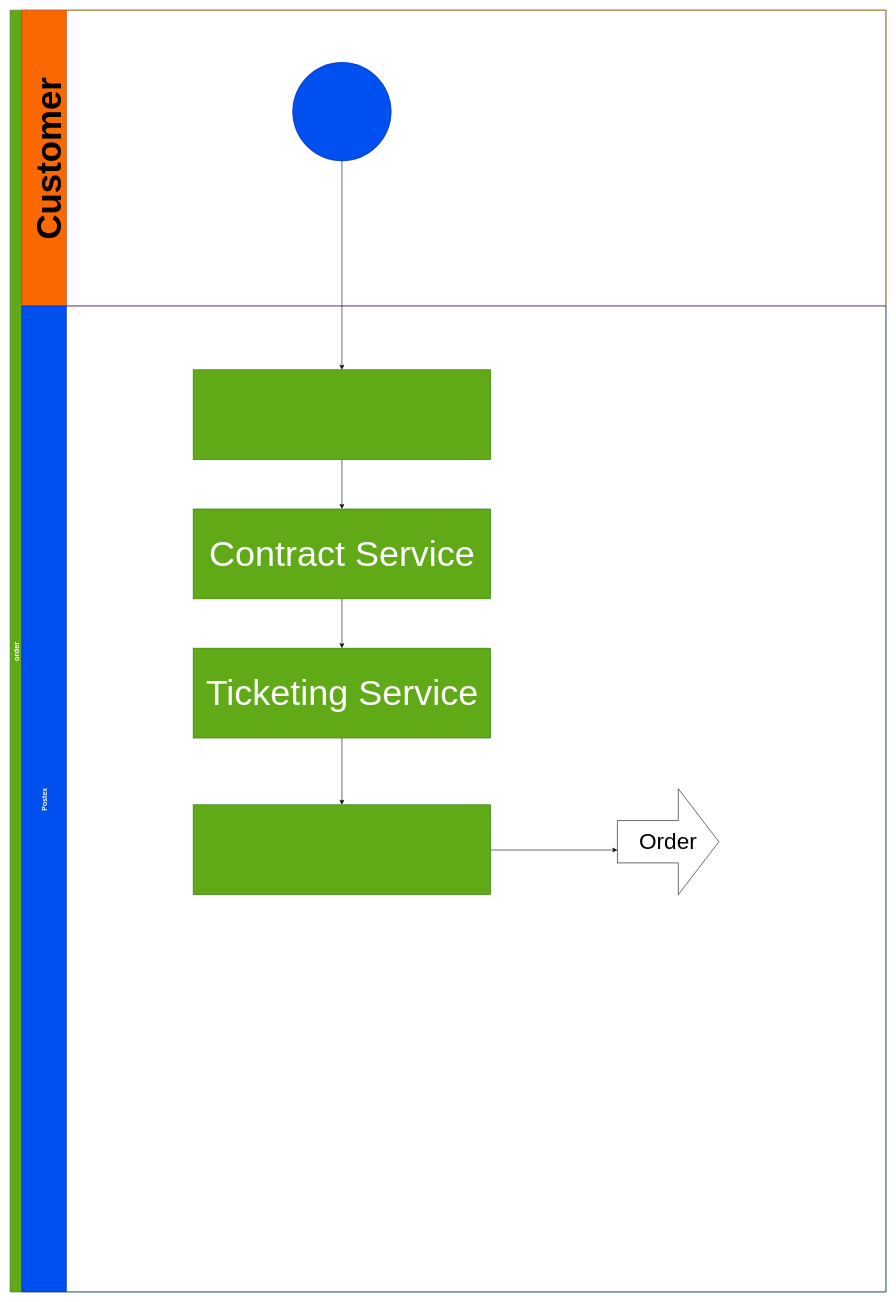
Some shapes in this 896 by 1302 pixel diagram are drawn without their labels. Each missing label, with the centre of its shape:
Accounting Service: [342,849]
Authentication & Roles: [342,414]
شروع: [341,111]
